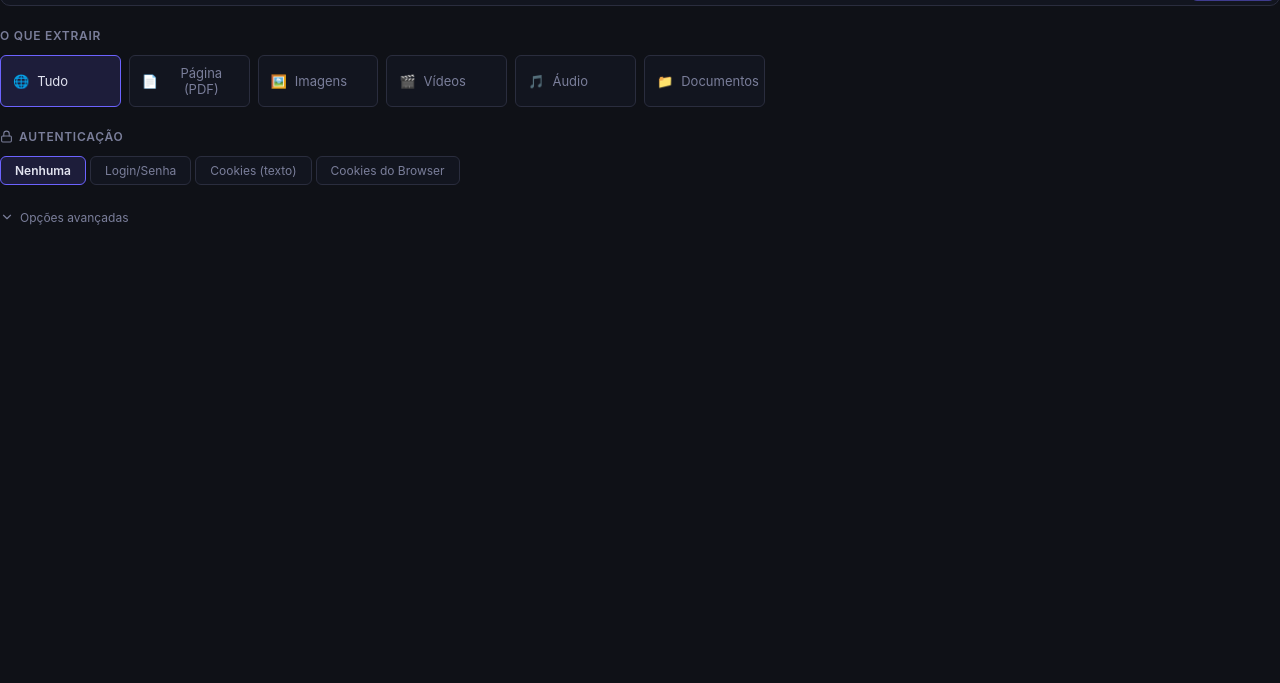
Test: ExtractionForm › reveals advanced options on demand
Check: the field labelled "Padrão de URL" is not shown
Click the button "Opções avançadas" at (74, 217), box [0, 205, 1279, 229]
(page scrolled)
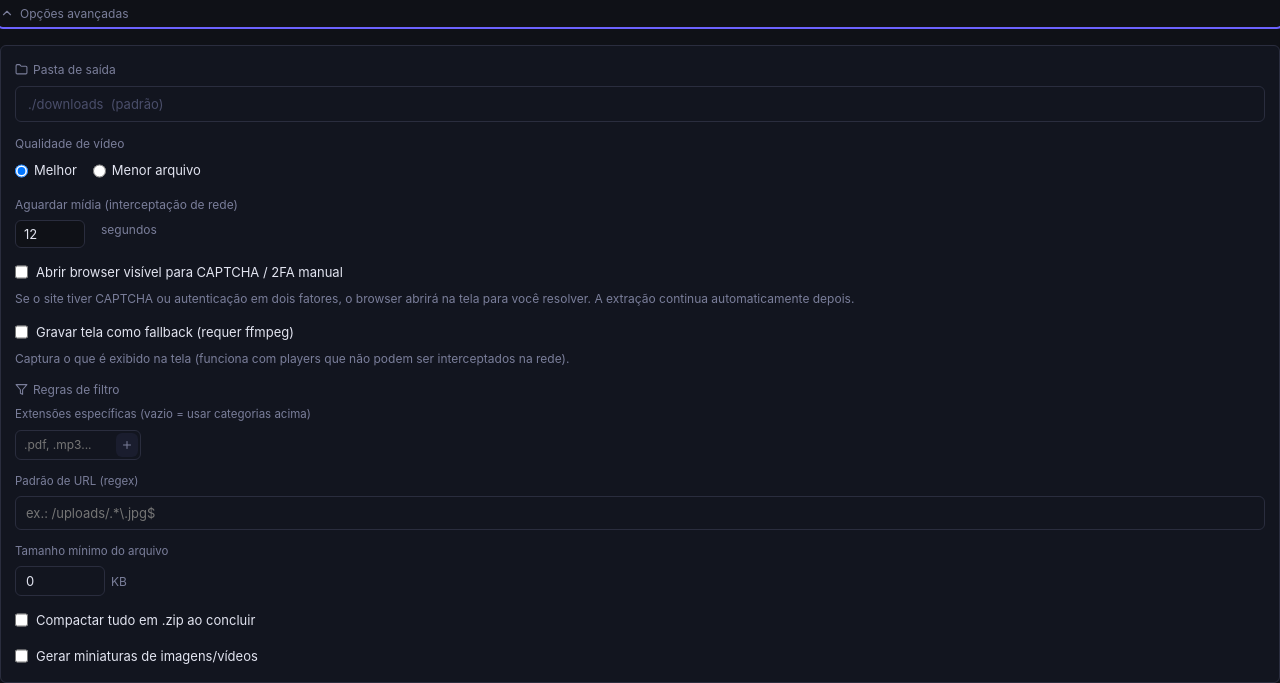
Check: the field labelled "Padrão de URL (regex)" is shown, box [15, 496, 1265, 530]
